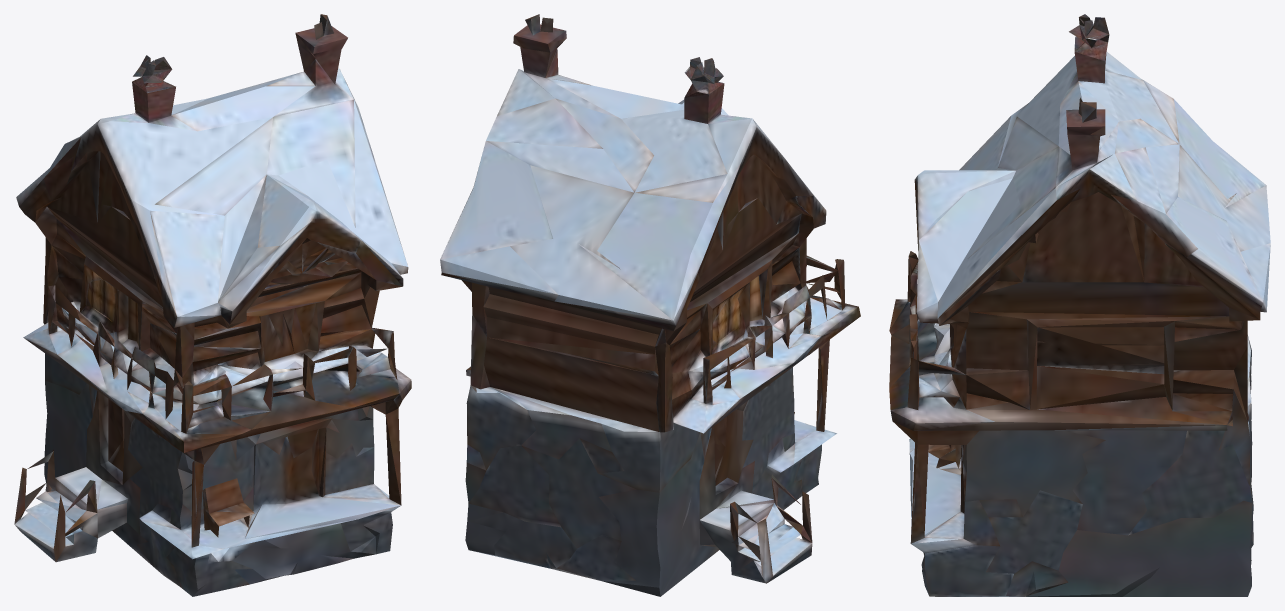
Rendered from house6.glb.
3 renders of one model, left to right at view 1: azimuth 30°, elevation 25°; view 2: azimuth 150°, elevation 25°; view 3: azimuth 270°, elevation 25°, orthographic. The views are drawn at different scales.
Bounding box in the file's own units: 1.23 × 1.9 × 1.32.
Materials: 1 (1 with a texture image).
